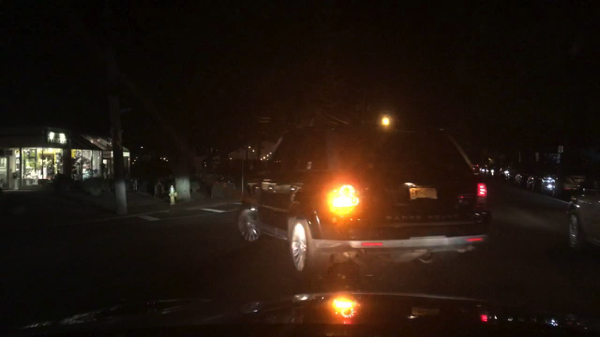car: (236, 120, 490, 283), (568, 168, 598, 246), (540, 165, 593, 198), (527, 167, 548, 191), (512, 167, 534, 188), (501, 162, 519, 180), (489, 162, 501, 177), (473, 164, 481, 176), (481, 164, 489, 176)
traffic sign: (257, 118, 272, 123), (533, 152, 540, 162), (121, 108, 132, 113), (557, 145, 563, 154)
